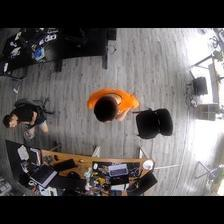normal: (4, 95, 52, 138), (84, 85, 135, 123)
